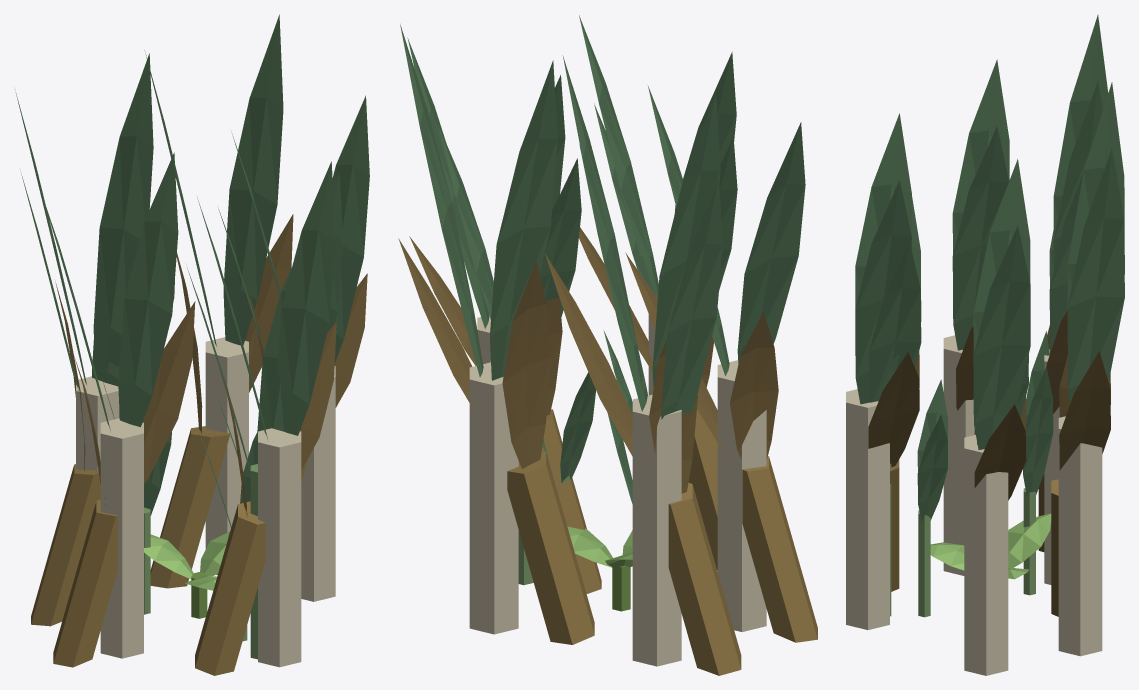
File: winter_leek.glb
3 views of the same model, side by side, from view 1: azimuth 30°, elevation 25°; view 2: azimuth 150°, elevation 25°; view 3: azimuth 270°, elevation 25° (orthographic). The views are drawn at different scales.
Parts seen in each view (by area): view 1: stage3, dead, stage2, stage0, stage1; view 2: stage3, dead, stage2, stage1, stage0; view 3: stage3, dead, stage1, stage2, stage0.
Boxes of the visible parts, <box> form: stage3: <box>15,14,369,667</box>; dead: <box>31,214,367,675</box>; stage2: <box>20,171,343,659</box>; stage0: <box>144,532,229,618</box>; stage1: <box>102,378,257,641</box>; stage3: <box>400,15,805,666</box>; dead: <box>398,227,817,675</box>; stage2: <box>438,103,737,585</box>; stage1: <box>542,330,632,503</box>; stage0: <box>567,526,632,611</box>; stage3: <box>846,15,1124,675</box>; dead: <box>868,310,1110,616</box>; stage1: <box>917,331,1053,617</box>; stage2: <box>869,173,1083,616</box>; stage0: <box>930,513,1051,579</box>.
Size of the model in its own units: 0.498 by 0.74 by 0.3524.
